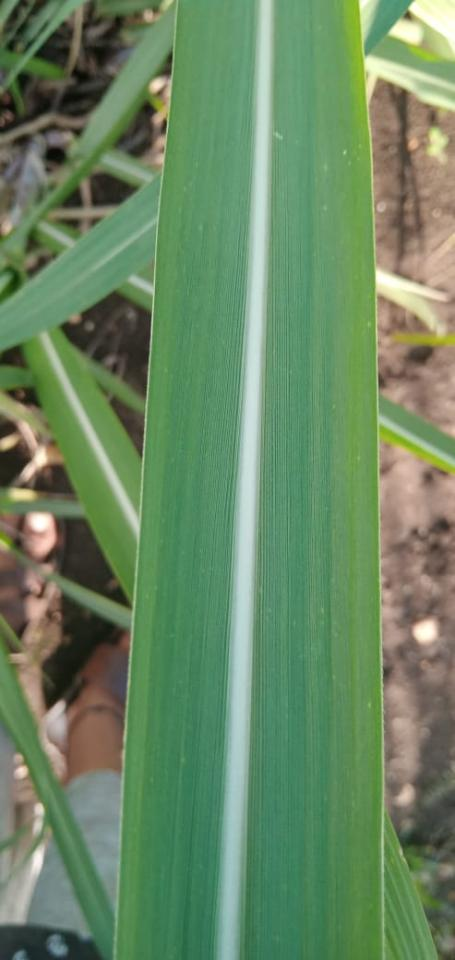Healthy: (116, 0, 382, 959), (22, 330, 140, 599), (0, 174, 159, 351), (385, 814, 437, 959)
